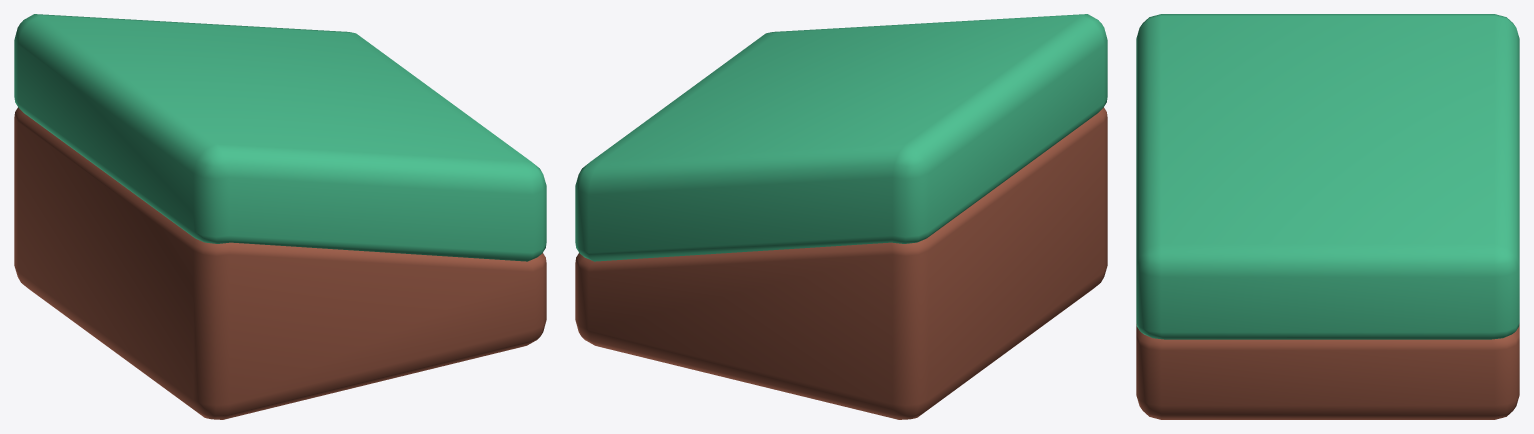
The model's file is tileSlopeLowMedium_forest.glb.
3 renders of one model, left to right at view 1: azimuth 30°, elevation 25°; view 2: azimuth 150°, elevation 25°; view 3: azimuth 270°, elevation 25°, orthographic. The views are drawn at different scales.
Parts seen in each view (by area): view 1: tileSlopeLowMedium_forest; view 2: tileSlopeLowMedium_forest; view 3: tileSlopeLowMedium_forest.
Part boxes in pixels (x1,y1,x2,y2): tileSlopeLowMedium_forest: [14, 14, 546, 419]; tileSlopeLowMedium_forest: [575, 14, 1107, 419]; tileSlopeLowMedium_forest: [1136, 14, 1519, 419].
Size of the model in its own units: 2 by 1.5 by 2.
